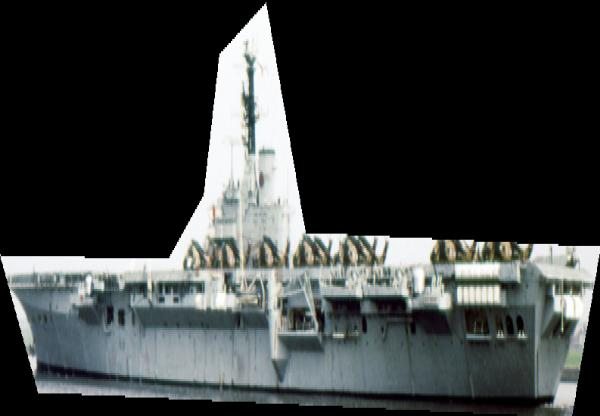Aircraft Carrier: (0, 2, 600, 416)
